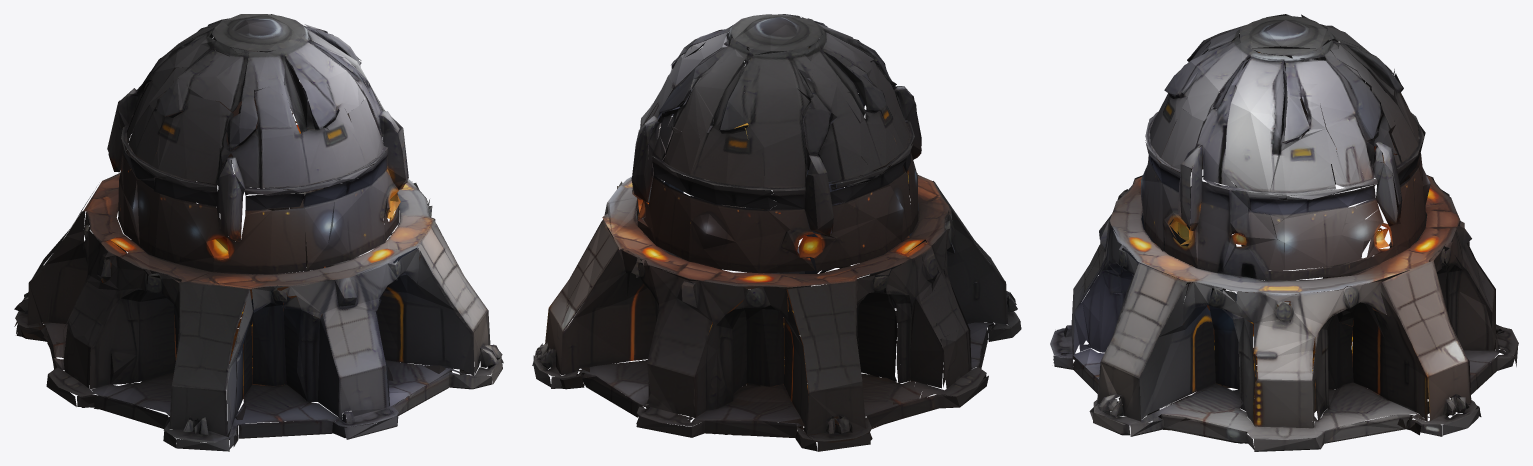
The model's file is military_dome_t3.fbx.
3 views of the same model, side by side, from view 1: azimuth 30°, elevation 25°; view 2: azimuth 150°, elevation 25°; view 3: azimuth 270°, elevation 25° (orthographic).
Visible parts, largest first — view 1: military_dome_t3; view 2: military_dome_t3; view 3: military_dome_t3.
Part boxes in pixels (left/top/right/bottom): military_dome_t3: left=14, top=14, right=503, bottom=451; military_dome_t3: left=532, top=14, right=1021, bottom=451; military_dome_t3: left=1050, top=14, right=1518, bottom=451.
Bounding box in the file's own units: 4.58 × 3.6 × 4.61.
Materials: 1 (1 with a texture image).
